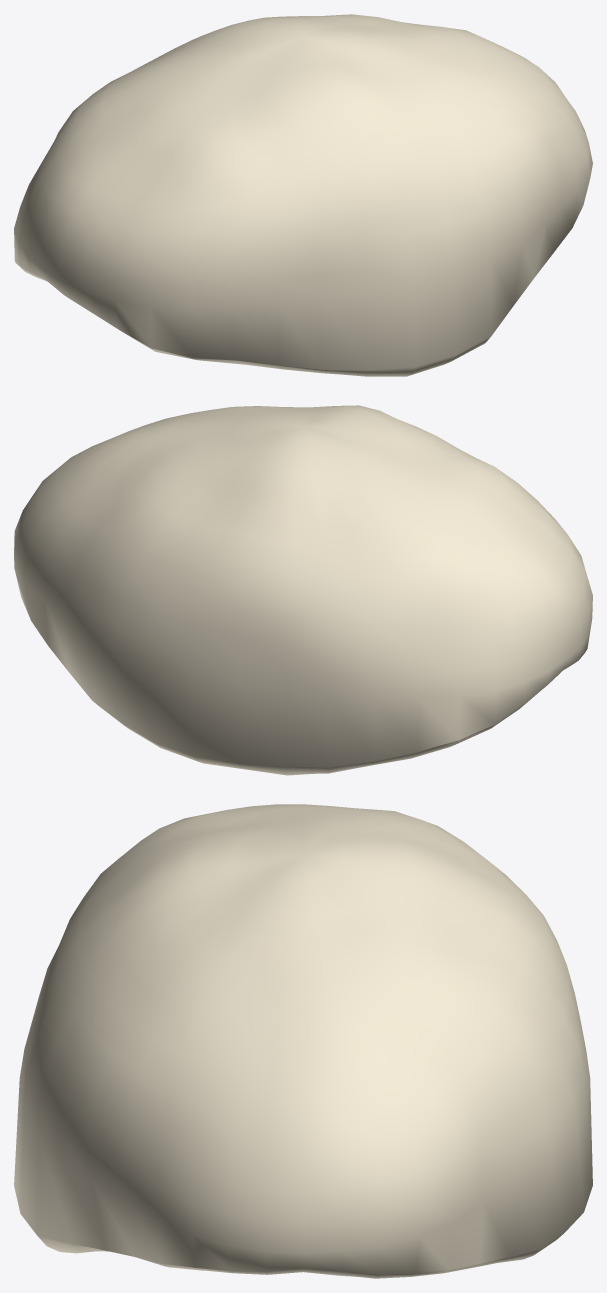
Rendered from cowrie_c6.glb.
3 views of the same model, one above another, from view 1: azimuth 30°, elevation 25°; view 2: azimuth 150°, elevation 25°; view 3: azimuth 270°, elevation 25° (orthographic). The views are drawn at different scales.
Parts seen in each view (by area): view 1: cowrie_c6; view 2: cowrie_c6; view 3: cowrie_c6.
Boxes of the visible parts, <box> form: cowrie_c6: <box>14,14,592,376</box>; cowrie_c6: <box>14,405,592,775</box>; cowrie_c6: <box>14,804,592,1278</box>.
Size of the model in its own units: 0.0234 by 0.0115 by 0.0166.
